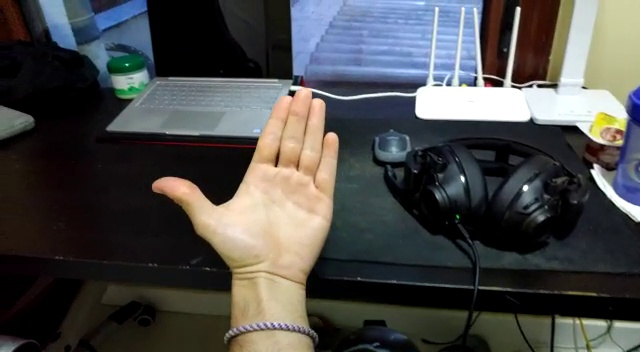Palm: (151, 87, 347, 283)
